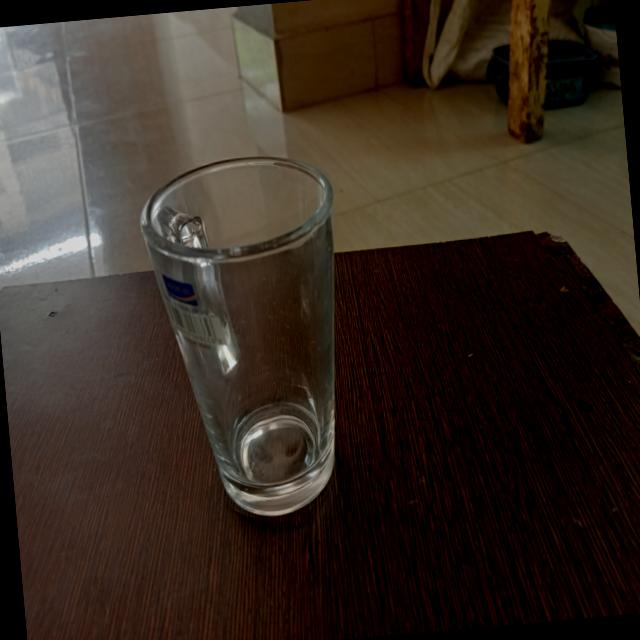glass-VX4N: (135, 148, 362, 526)
